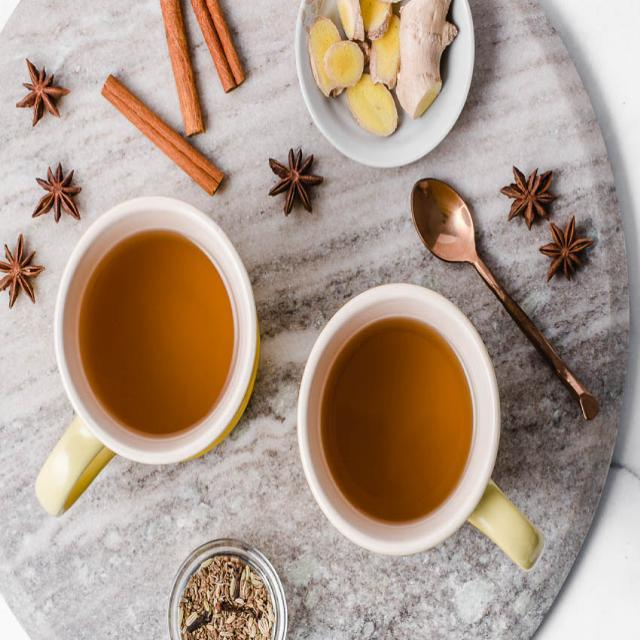ginger: (395, 0, 456, 117)
